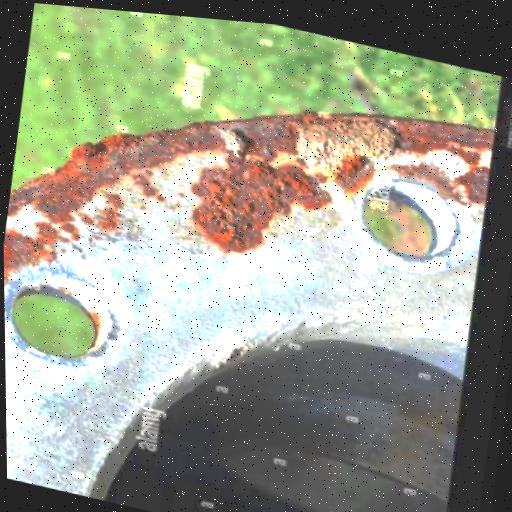corrosion: (165, 81, 359, 290), (1, 90, 166, 321), (365, 96, 497, 196)
